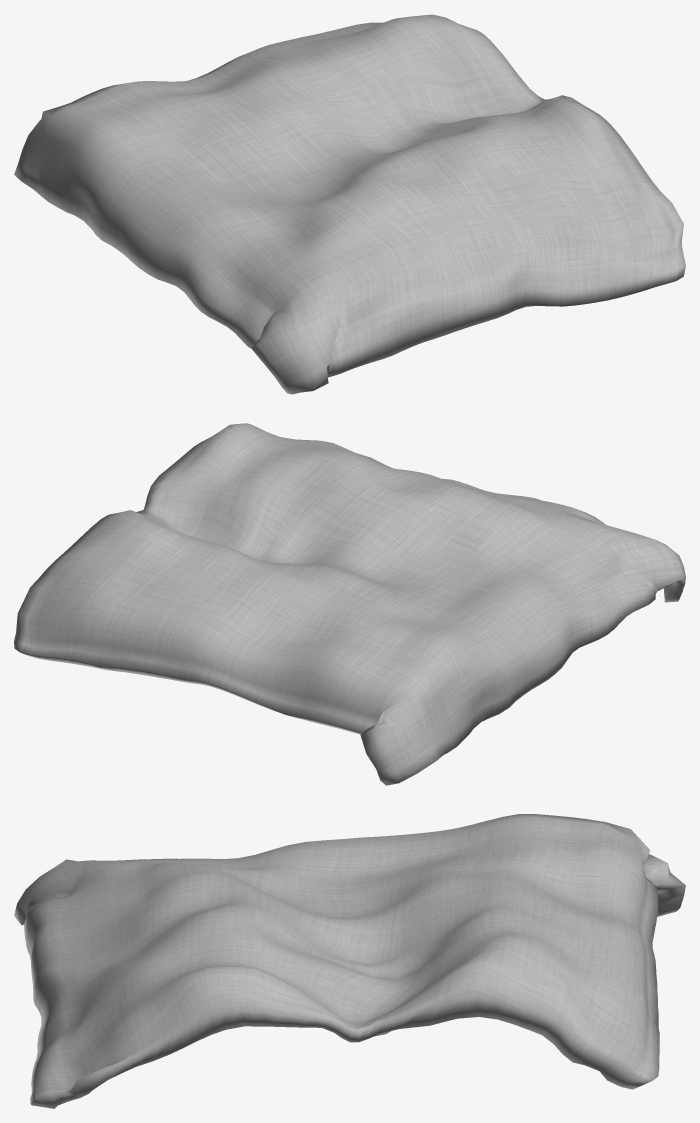
File: duvet fixed.fbx
The picture shows the model from 3 angles, top to bottom: view 1: azimuth 30°, elevation 25°; view 2: azimuth 150°, elevation 25°; view 3: azimuth 270°, elevation 25°; orthographic projection. The views are drawn at different scales.
Parts seen in each view (by area): view 1: Duvet; view 2: Duvet; view 3: Duvet.
Part boxes in pixels (<box>): Duvet: <box>14,14,685,394</box>; Duvet: <box>14,423,685,785</box>; Duvet: <box>14,814,685,1108</box>.
Bounding box in the file's own units: 189 × 60.16 × 227.
